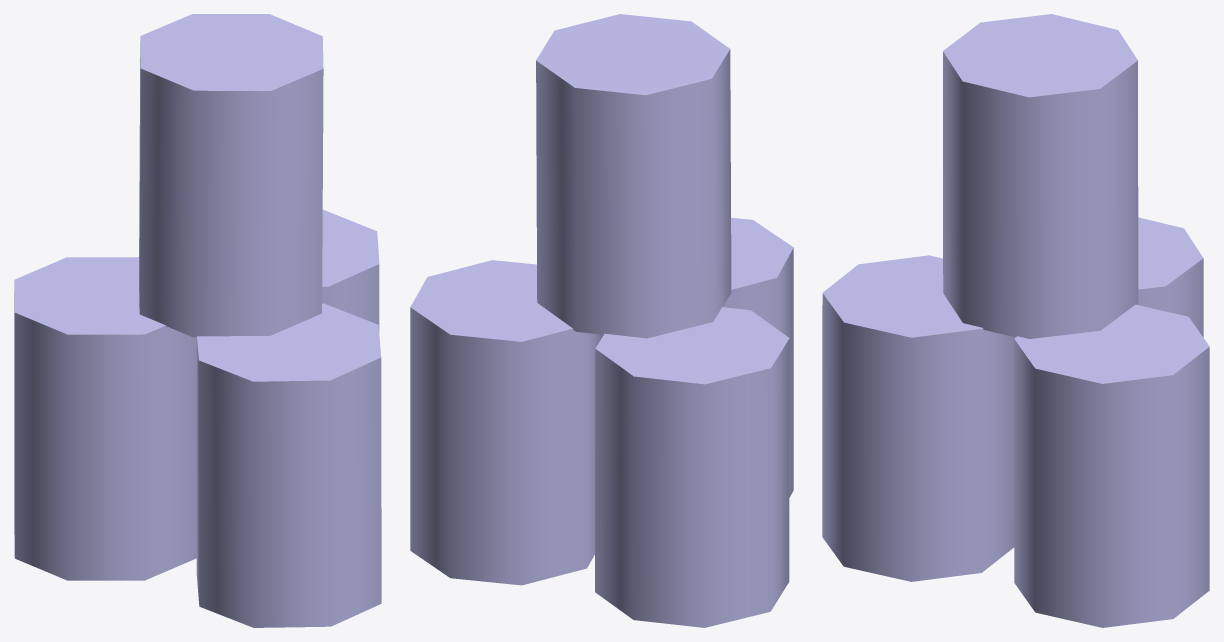
File: Barrelgroup2.fbx
The picture shows the model from 3 angles, left to right: view 1: azimuth 30°, elevation 25°; view 2: azimuth 150°, elevation 25°; view 3: azimuth 270°, elevation 25°; orthographic projection.
Visible parts, largest first — view 1: barrelcrash; view 2: barrelcrash; view 3: barrelcrash.
Part boxes in pixels (x1=…): barrelcrash: x1=14, y1=14, x2=381, y2=627; barrelcrash: x1=410, y1=14, x2=793, y2=627; barrelcrash: x1=822, y1=14, x2=1209, y2=627.
Bounding box in the file's own units: 230 × 305 × 219.
